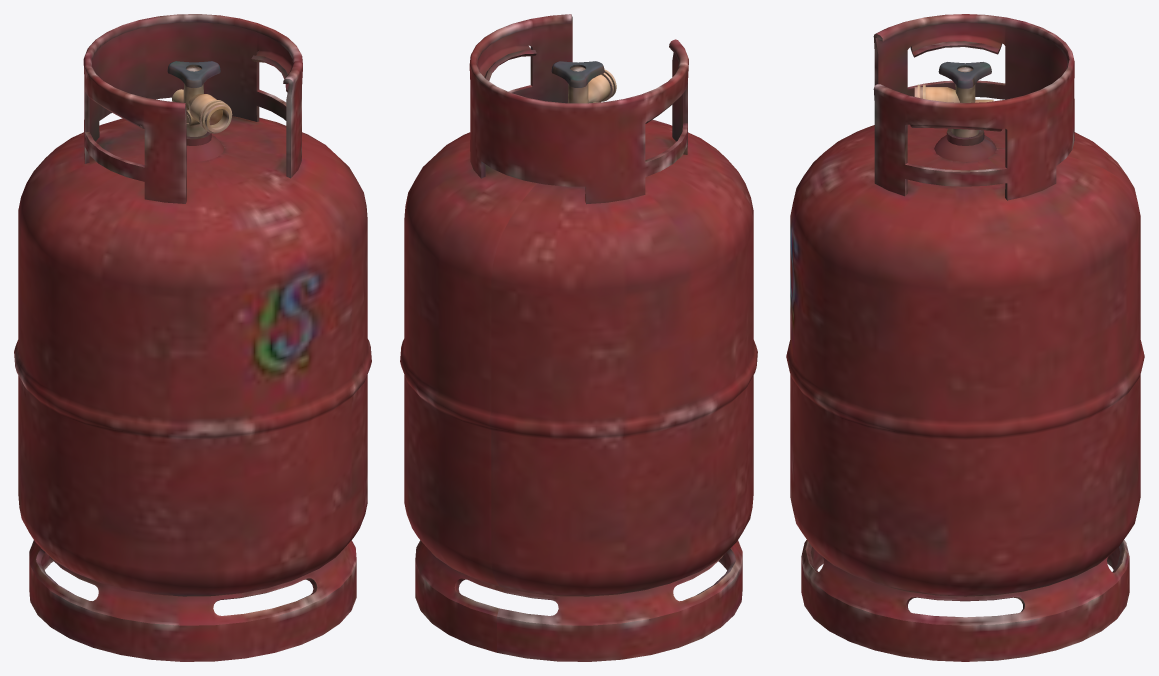
The model's file is propane_tank.gltf.
3 renders of one model, left to right at view 1: azimuth 30°, elevation 25°; view 2: azimuth 150°, elevation 25°; view 3: azimuth 270°, elevation 25°, orthographic.
Parts seen in each view (by area): view 1: propane_tank; view 2: propane_tank; view 3: propane_tank.
Boxes of the visible parts, x1,y1,x2,y2 form: propane_tank: (14,14,371,661); propane_tank: (400,14,757,661); propane_tank: (786,14,1144,661).
Bounding box in the file's own units: 0.3374 × 0.5538 × 0.3374.
1 material, 1 textured.
